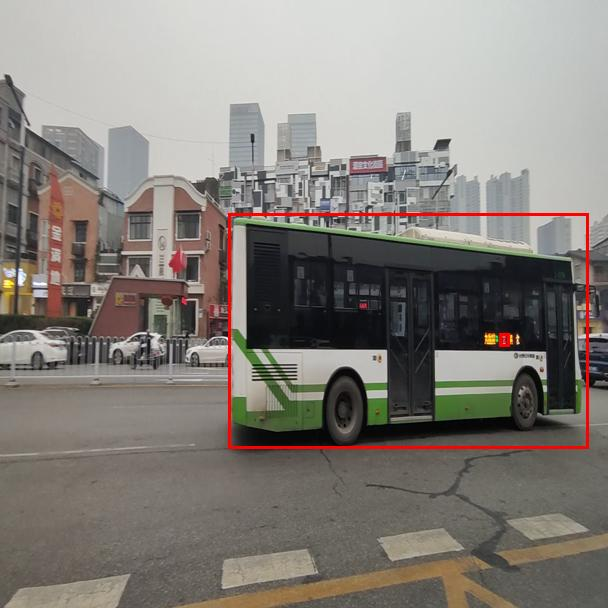bus: (228, 213, 588, 448)
screen: (499, 333, 509, 346)
